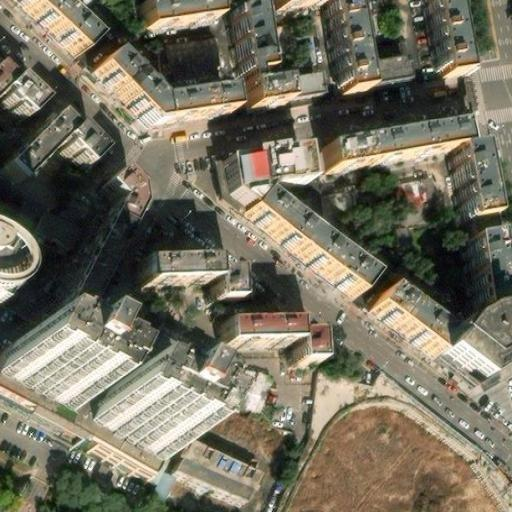building: (0, 374, 172, 477), (245, 192, 366, 291), (67, 164, 142, 304), (97, 55, 232, 125), (92, 384, 190, 459), (4, 99, 103, 169), (0, 337, 92, 412), (327, 122, 465, 166), (393, 289, 474, 357), (175, 439, 256, 498), (457, 312, 512, 389), (226, 313, 319, 356), (224, 139, 306, 186), (137, 258, 229, 299), (456, 142, 494, 215), (427, 0, 475, 51), (481, 243, 512, 319), (0, 49, 46, 99), (161, 35, 218, 73), (148, 10, 217, 40), (244, 81, 313, 109), (233, 34, 269, 82), (335, 6, 369, 53), (342, 47, 384, 74), (275, 0, 336, 17), (382, 50, 411, 73)
